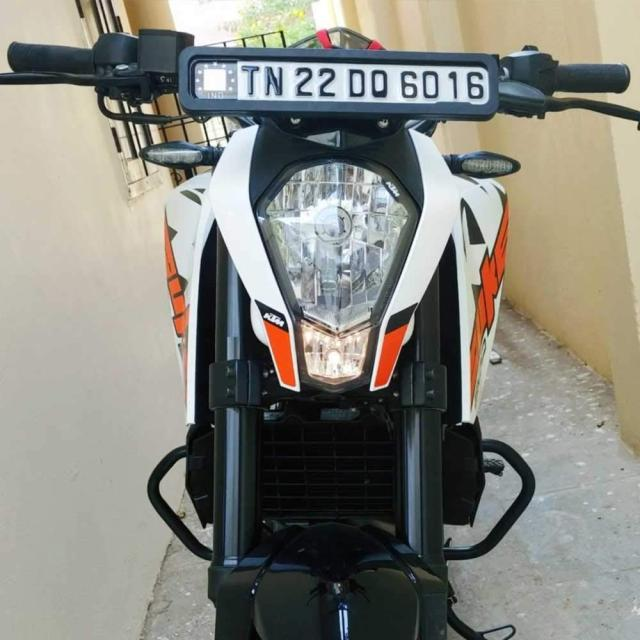number plate: (177, 47, 500, 119)
